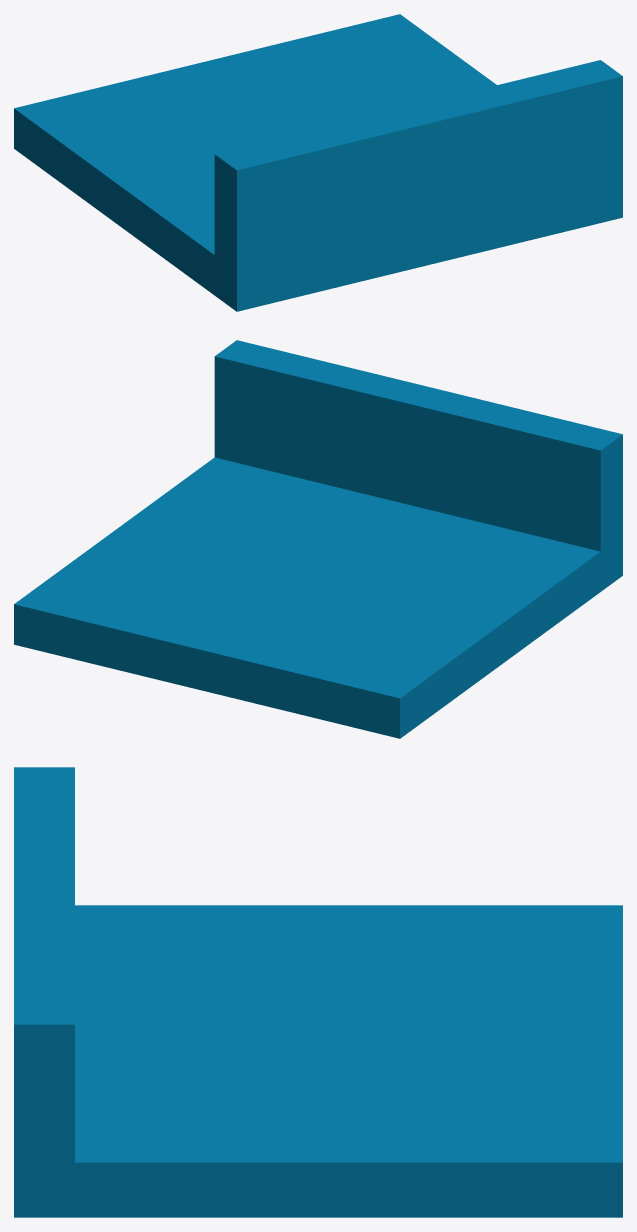
File: BlueRoof_1Edge_Small.glb
3 renders of one model, top to bottom at view 1: azimuth 30°, elevation 25°; view 2: azimuth 150°, elevation 25°; view 3: azimuth 270°, elevation 25°, orthographic. The views are drawn at different scales.
Parts seen in each view (by area): view 1: roof_flat_1Edges_small_blue; view 2: roof_flat_1Edges_small_blue; view 3: roof_flat_1Edges_small_blue.
Boxes of the visible parts, left/top/right/bottom form: roof_flat_1Edges_small_blue: left=14, top=14, right=622, bottom=311; roof_flat_1Edges_small_blue: left=14, top=340, right=622, bottom=738; roof_flat_1Edges_small_blue: left=14, top=767, right=622, bottom=1217.
Size of what is drawn, in the model's own units: 2 by 0.7 by 2.
Materials: 1 (1 with a texture image).
